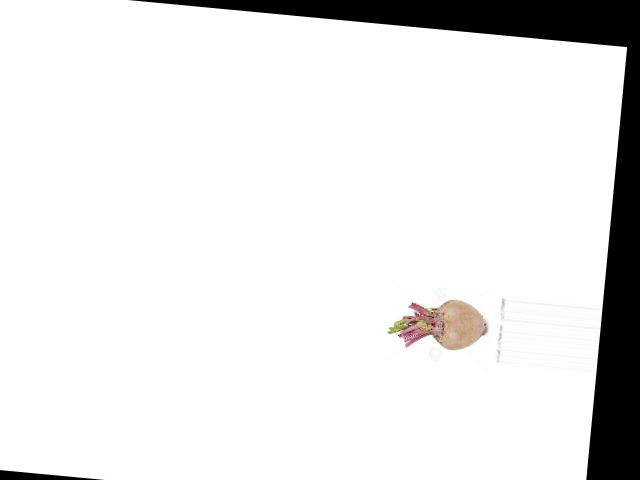beet: (386, 292, 489, 354)
